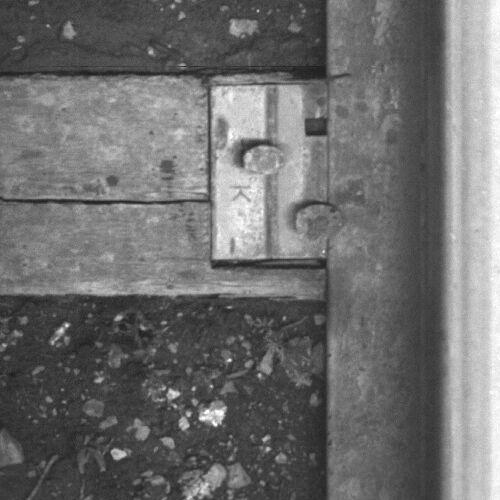do: (209, 83, 346, 258)
hole_do: (294, 107, 340, 146)
rail: (441, 1, 500, 500)
tie_wood: (1, 76, 328, 297)
wood_crack: (1, 190, 212, 210)
